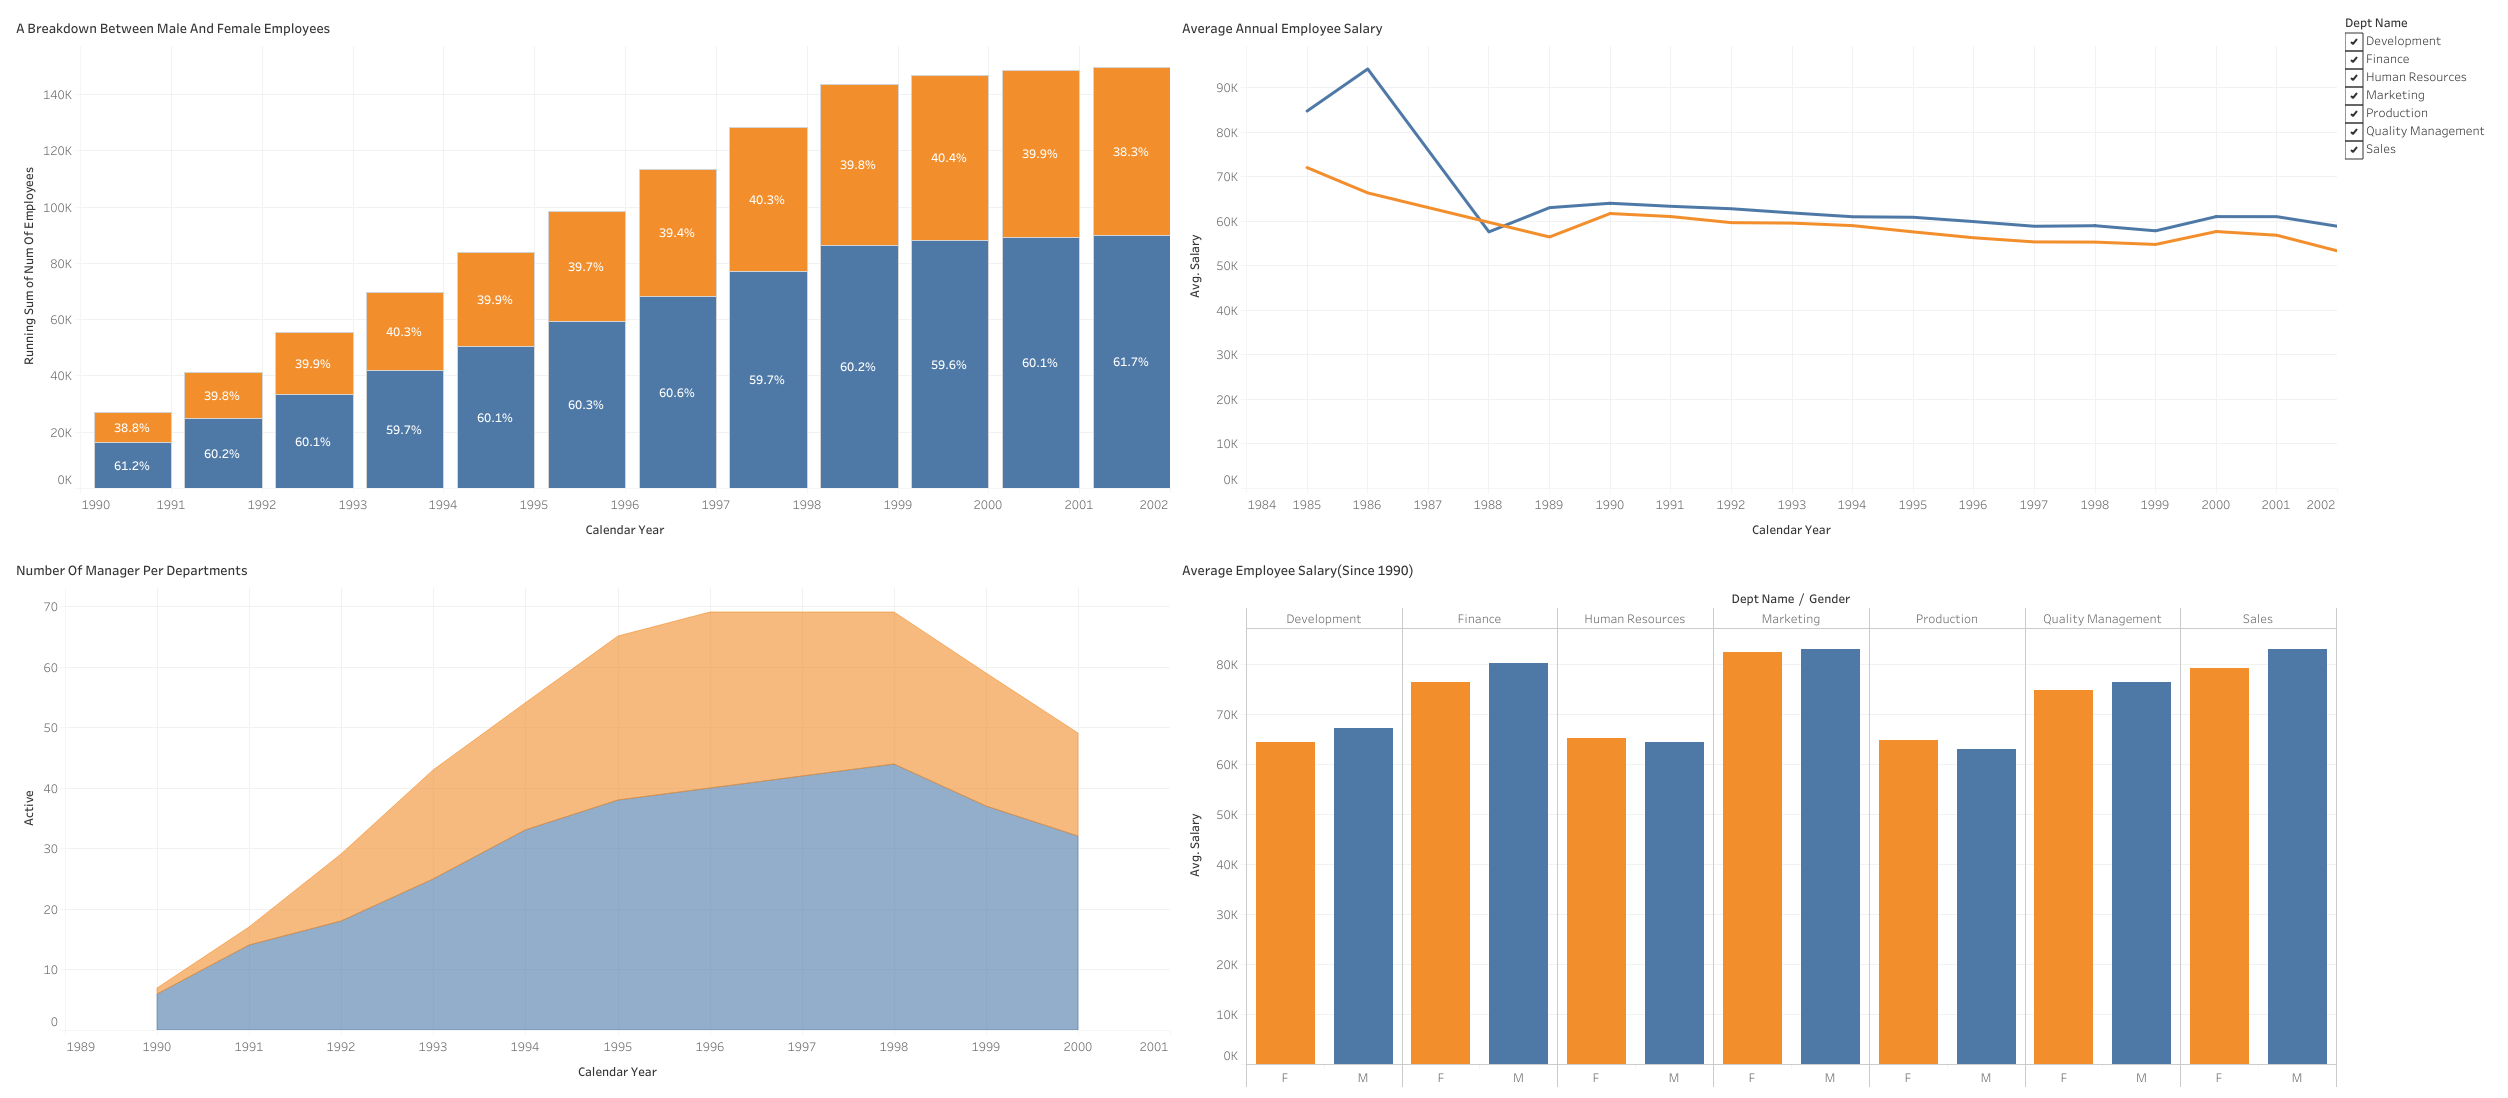

This screenshot's page, from the dashboard's own definition file:
{"tool":"tableau","page":{"name":"Dashboard 1","canvas":[1000,1000],"units":"permille","ordinal":0},"visuals":[{"type":"worksheet","title":"Sheet 1","mark":"Bar","rows":["num_of_employees"],"cols":["calendar_year"],"box":[4.8,9.8,446.9,490.2]},{"type":"worksheet","title":"Sheet 3","mark":"Automatic","rows":["salary"],"cols":["calendar_year"],"box":[451.7,9.8,446.9,490.2]},{"type":"filter","title":"Sheet 2","param":"[federated.126lubu1fe1362186z0x61njpukg].[none:dept_name:nk]","box":[898.6,9.8,96.6,313]},{"type":"worksheet","title":"Sheet 2","mark":"Area","rows":["active"],"cols":["calendar_year"],"box":[4.8,500,446.9,490.2]},{"type":"worksheet","title":"Sheet 4","mark":"Bar","rows":["salary"],"cols":["dept_name","gender"],"box":[451.7,500,446.9,490.2]}]}

Visuals, with their boxes on the dashboard's canvas, which has no fixed pixel size, in thousandths of its width and height (x1, y1, x2, y2). These are canvas units, not pixel positions in the 2508x1098 screenshot, which may show the page scaled, cropped or inside an application window:
"Sheet 1" worksheet (Bar marks): box(5, 10, 452, 500)
"Sheet 3" worksheet: box(452, 10, 899, 500)
"Sheet 2" filter: box(899, 10, 995, 323)
"Sheet 2" worksheet (Area marks): box(5, 500, 452, 990)
"Sheet 4" worksheet (Bar marks): box(452, 500, 899, 990)
